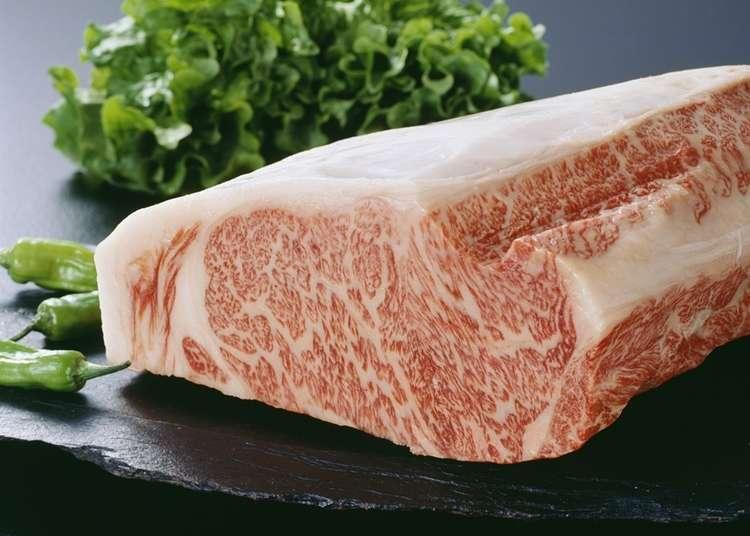beef: (119, 145, 750, 383)
